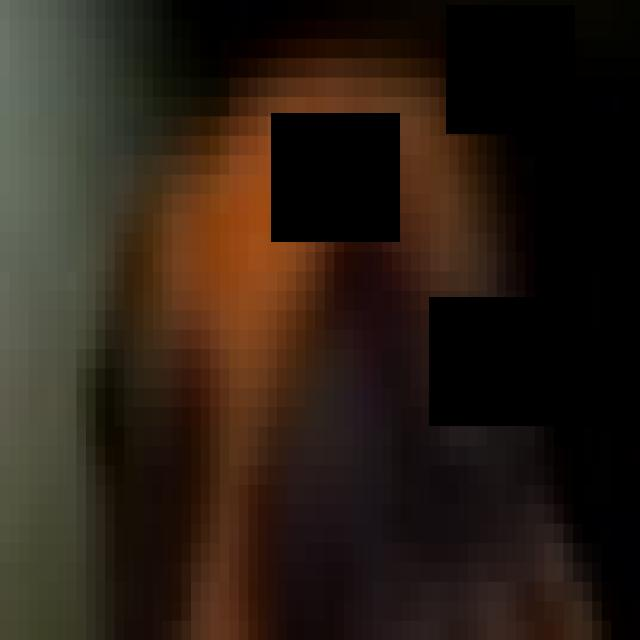fish: (9, 19, 640, 639)
